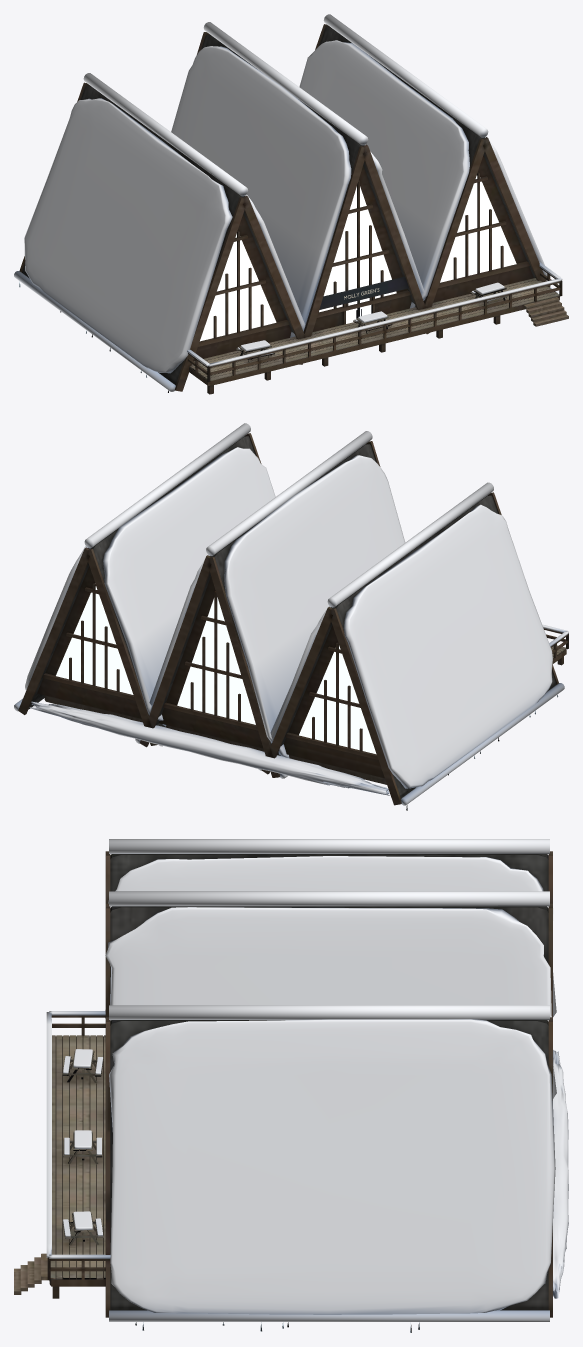
Rendered from molly_greens.glb.
3 views of the same model, one above another, from view 1: azimuth 30°, elevation 25°; view 2: azimuth 150°, elevation 25°; view 3: azimuth 270°, elevation 25° (orthographic). The views are drawn at different scales.
Parts seen in each view (by area): view 1: molly_greens_snow, molly_greens, molly_greens_lit; view 2: molly_greens_snow, molly_greens, molly_greens_lit; view 3: molly_greens_snow, molly_greens.
Part boxes in pixels (<box>): molly_greens_snow: <box>14,14,562,391</box>; molly_greens: <box>19,24,568,394</box>; molly_greens_lit: <box>200,175,516,341</box>; molly_greens_snow: <box>14,423,568,805</box>; molly_greens: <box>18,433,568,810</box>; molly_greens_lit: <box>56,586,376,754</box>; molly_greens_snow: <box>46,839,568,1321</box>; molly_greens: <box>14,851,552,1332</box>.
Size of the model in its own units: 28.15 by 15.22 by 24.56.
Materials: 4 (1 with a texture image).
